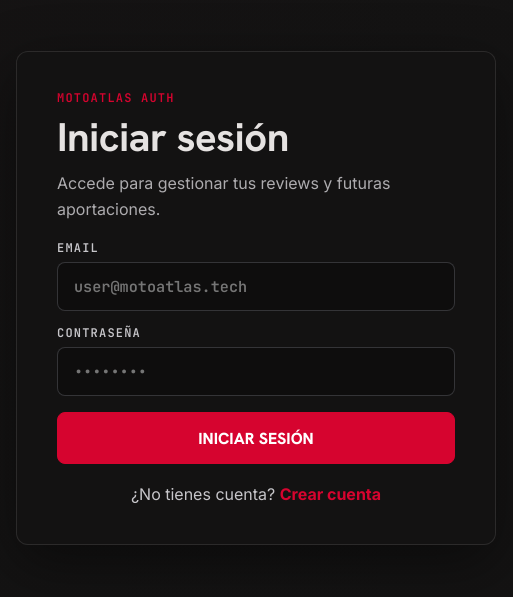
Test: AuthPage › muestra errores del servicio
Type "rider@motoatlas.com" into the field labelled "Email".
click(256, 287); type("rider@motoatlas.com")  # box [57,262,455,311]
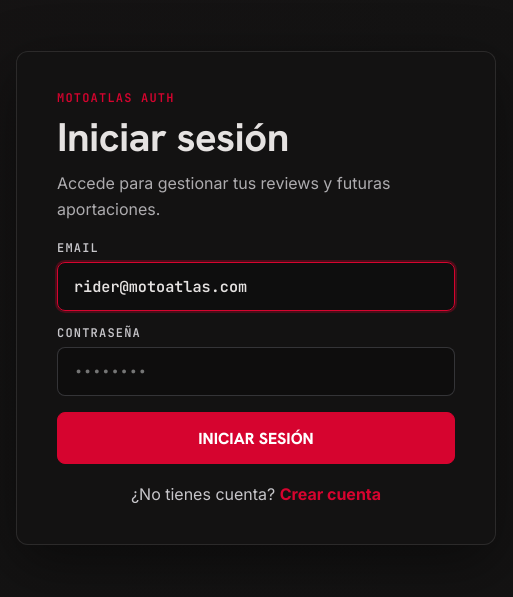
Type "secret123" into the password field labelled "Contraseña".
click(256, 372); type("secret123")  # box [57,347,455,396]
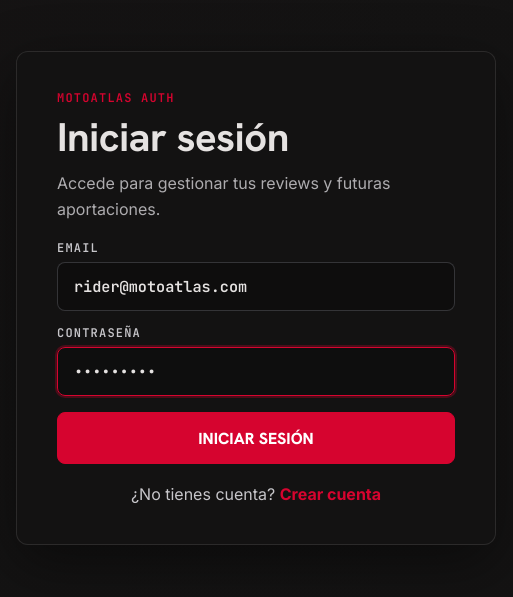
Click the button "Iniciar sesión".
click(256, 438)  # box [57,412,455,464]
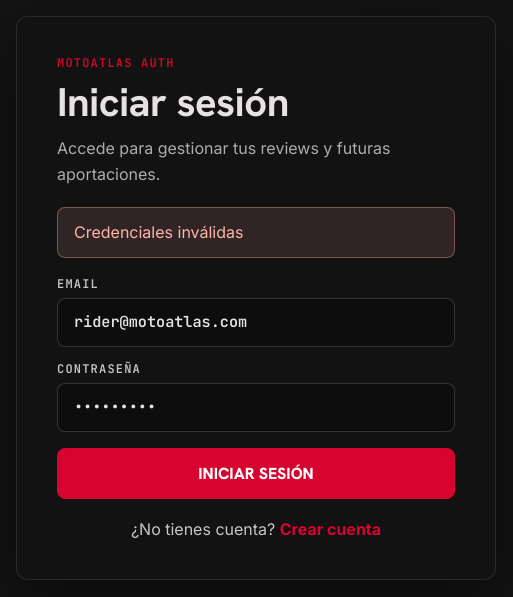
Expected: the message reads "Credenciales inválidas", [74,222,244,242]
